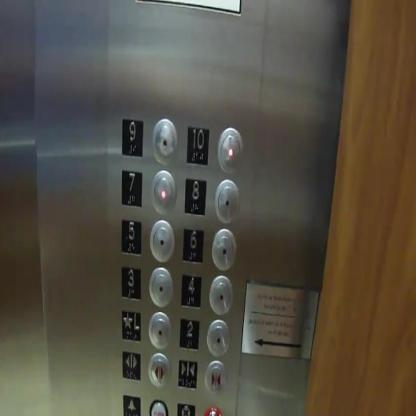10: (184, 121, 210, 168), (182, 172, 208, 219), (118, 164, 144, 210), (120, 113, 145, 160), (118, 262, 143, 302), (177, 314, 202, 354), (181, 224, 205, 264), (119, 216, 143, 256), (179, 270, 203, 310), (119, 306, 142, 344), (175, 357, 198, 391), (120, 349, 143, 382), (148, 352, 170, 386), (205, 360, 227, 393)
empty: (151, 113, 179, 167), (212, 177, 242, 227), (216, 126, 245, 177), (149, 167, 178, 216), (210, 228, 238, 273), (207, 272, 235, 317), (205, 314, 231, 358), (148, 218, 174, 262), (147, 262, 173, 306), (146, 308, 172, 352)
